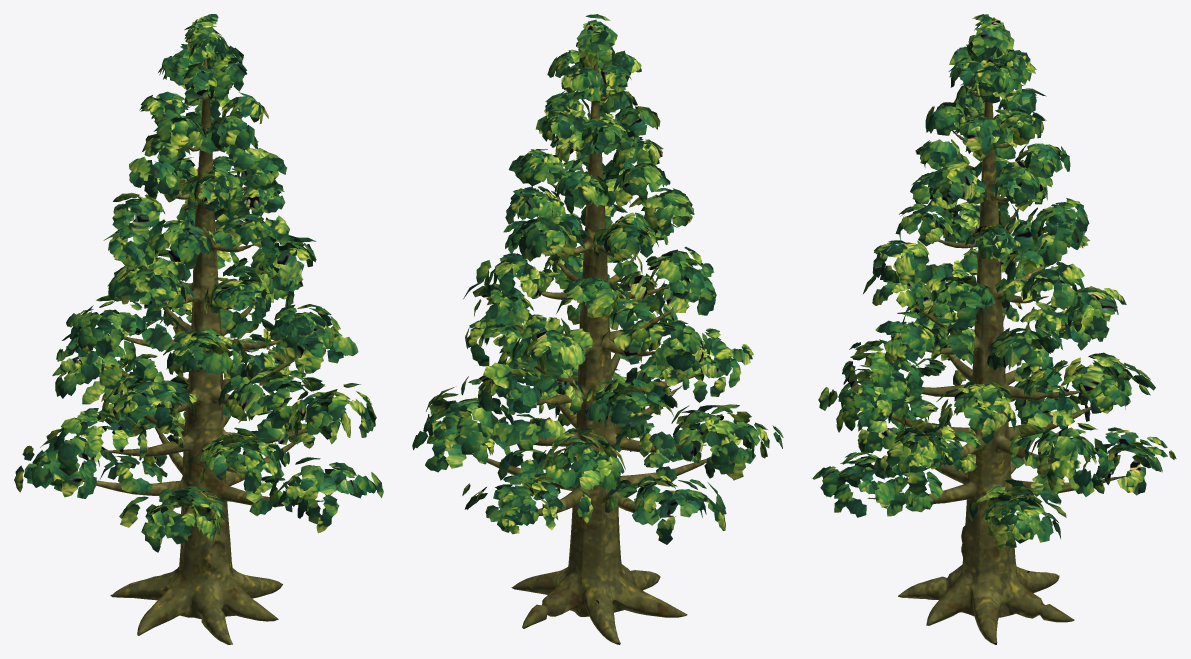
File: tall_pine_lod0.glb
3 views of the same model, side by side, from view 1: azimuth 30°, elevation 25°; view 2: azimuth 150°, elevation 25°; view 3: azimuth 270°, elevation 25° (orthographic).
Visible parts, largest first — view 1: Leaves_LOD0.004, Trunk_LOD0.004; view 2: Leaves_LOD0.004, Trunk_LOD0.004; view 3: Leaves_LOD0.004, Trunk_LOD0.004.
Part boxes in pixels (x1,y1,x2,y2): Leaves_LOD0.004: (14, 14, 383, 552); Trunk_LOD0.004: (82, 59, 324, 644); Leaves_LOD0.004: (412, 14, 783, 544); Trunk_LOD0.004: (471, 60, 706, 644); Leaves_LOD0.004: (812, 14, 1176, 550); Trunk_LOD0.004: (867, 59, 1125, 644).
Bounding box in the file's own units: 5.22 × 9.31 × 5.18.
Materials: 2 (2 with a texture image).
